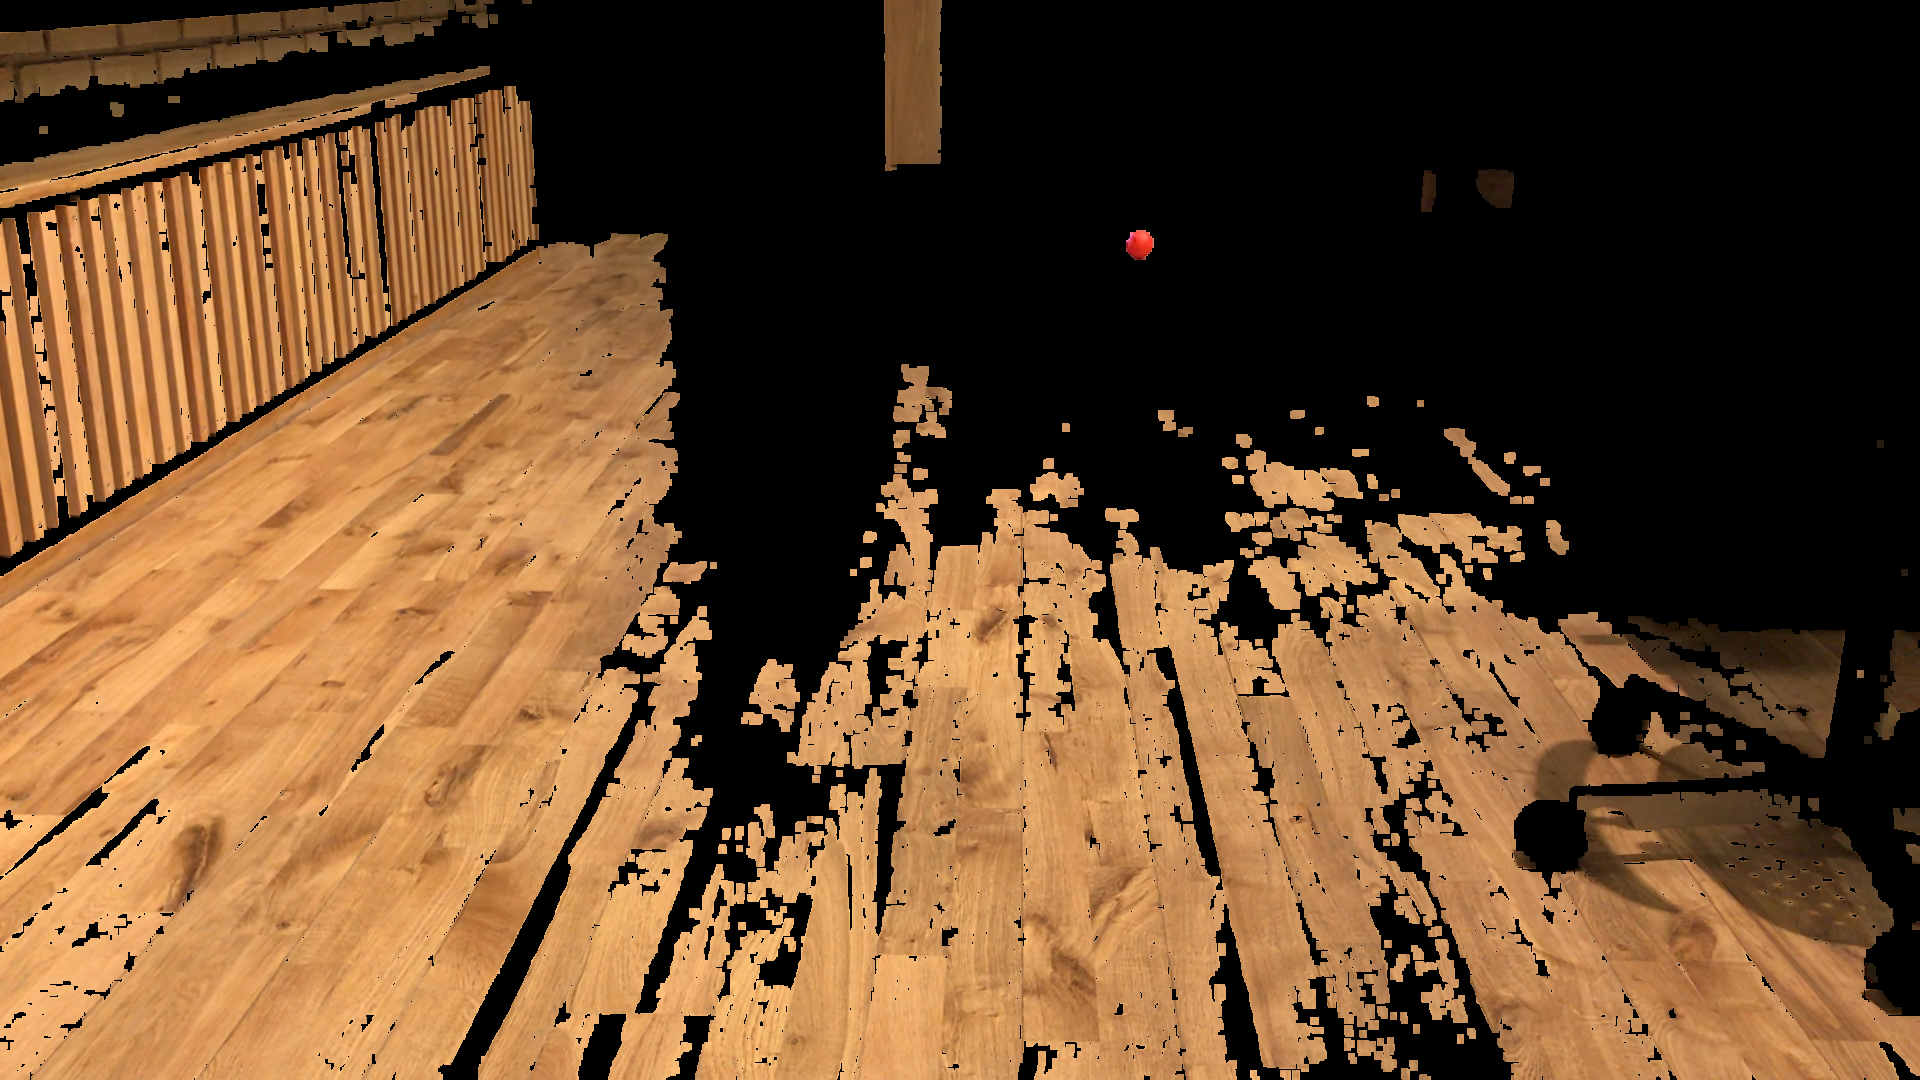Ball: (1127, 223, 1150, 251)
